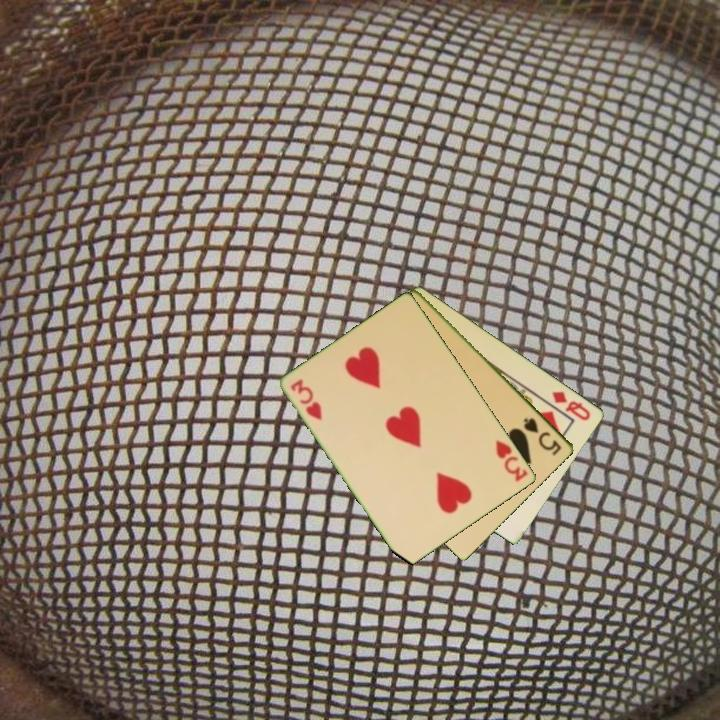3h: (492, 436, 531, 485), (287, 375, 326, 423)
5s: (520, 414, 565, 459)
Qd: (549, 387, 594, 424)
